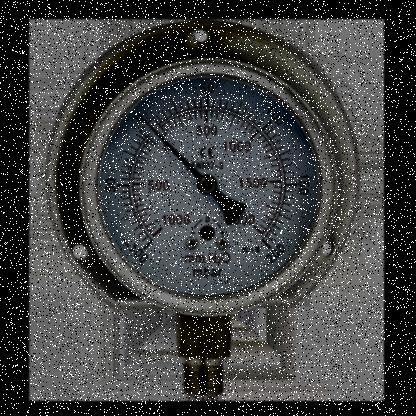needle: (137, 112, 205, 181)
